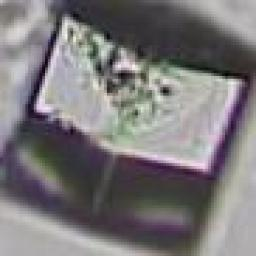crystals: (0, 5, 253, 253)
